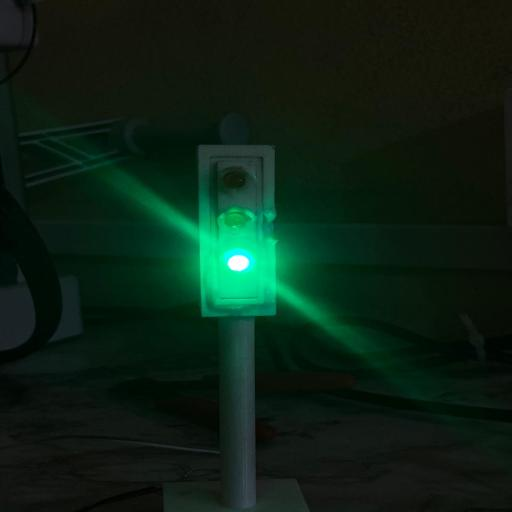Green Light: (228, 255, 250, 271)
